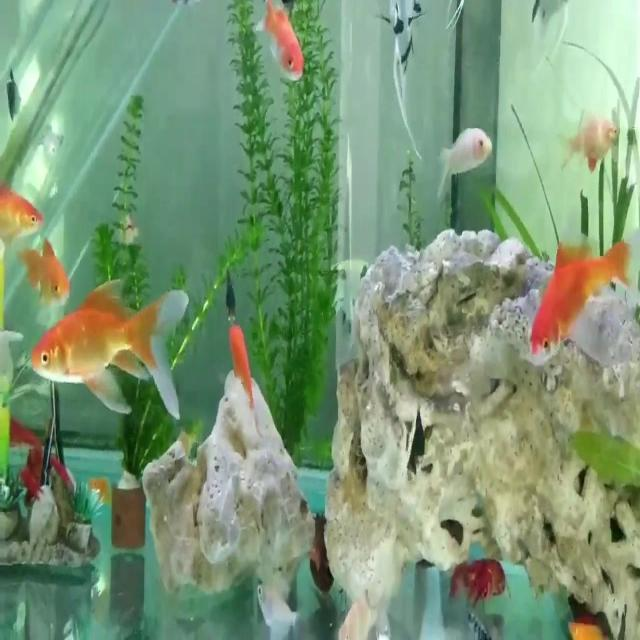GoldFish: (26, 271, 186, 438), (522, 214, 640, 366), (431, 121, 497, 208), (254, 0, 308, 87), (15, 234, 75, 308)
